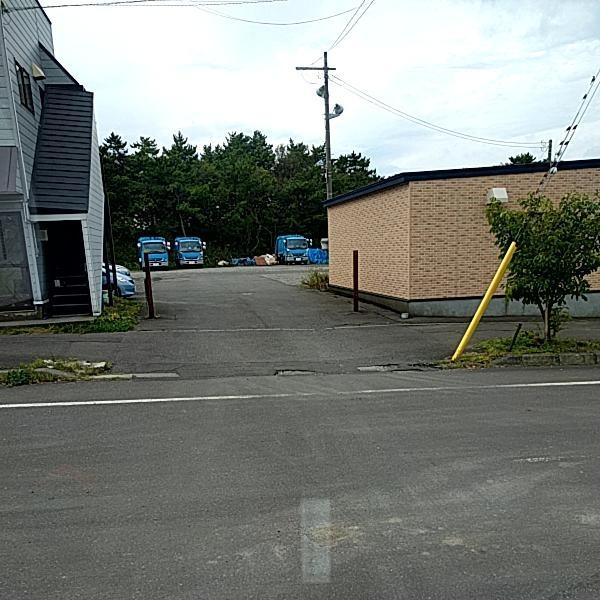pothole: (355, 363, 439, 373), (274, 370, 320, 376)
